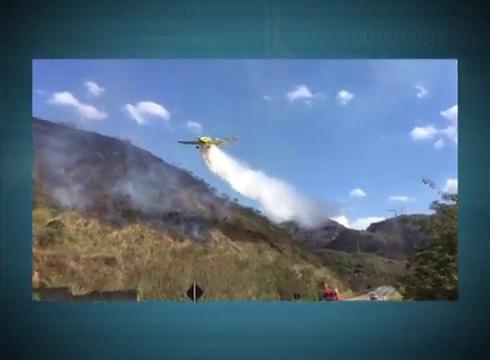smoke: (42, 140, 88, 164)
